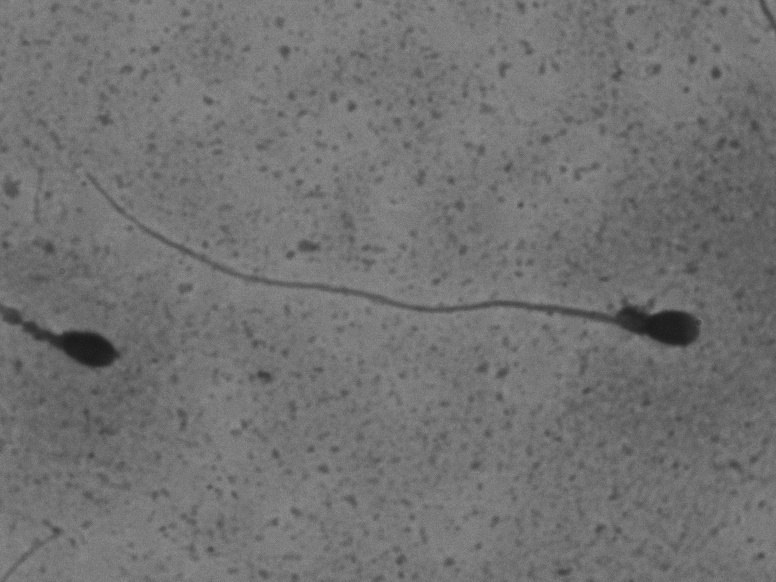Abnormal: (128, 199, 731, 358)
